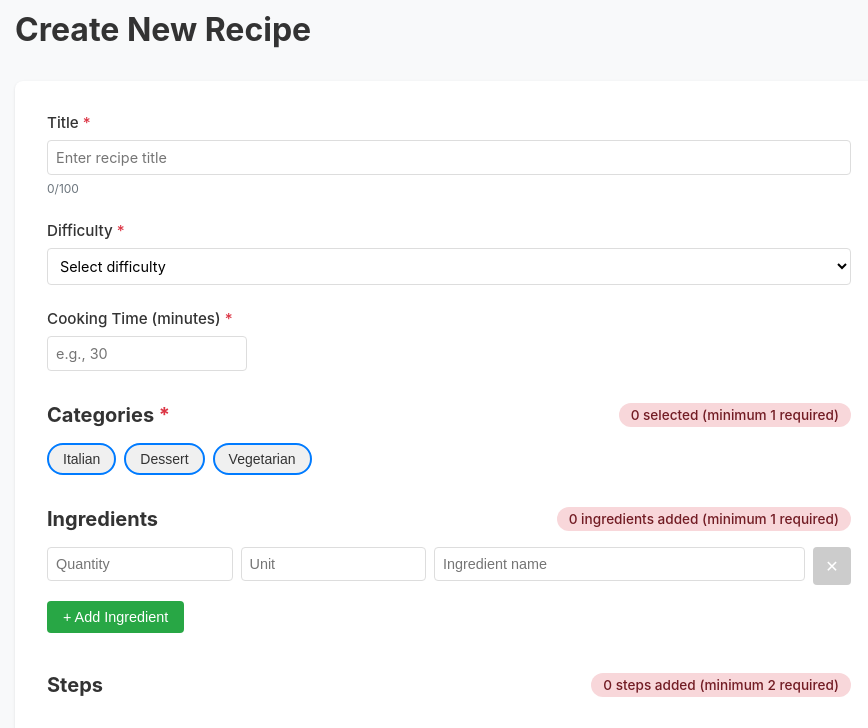
Test: CreateRecipeView › Ingredients Section › removes an ingredient row when delete button is clicked
Click the button "+ Add Ingredient": (116, 617) [47,601,184,633]
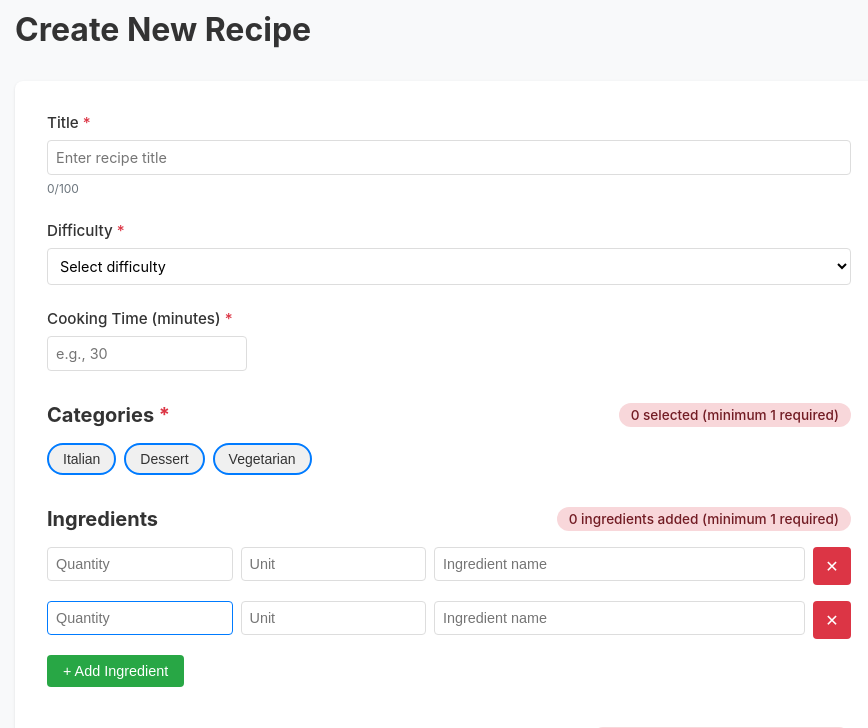
Expected: the number of buttons named "Remove ingredient" is 2
Click the button named "Remove ingredient": (832, 620) [813,601,851,639]
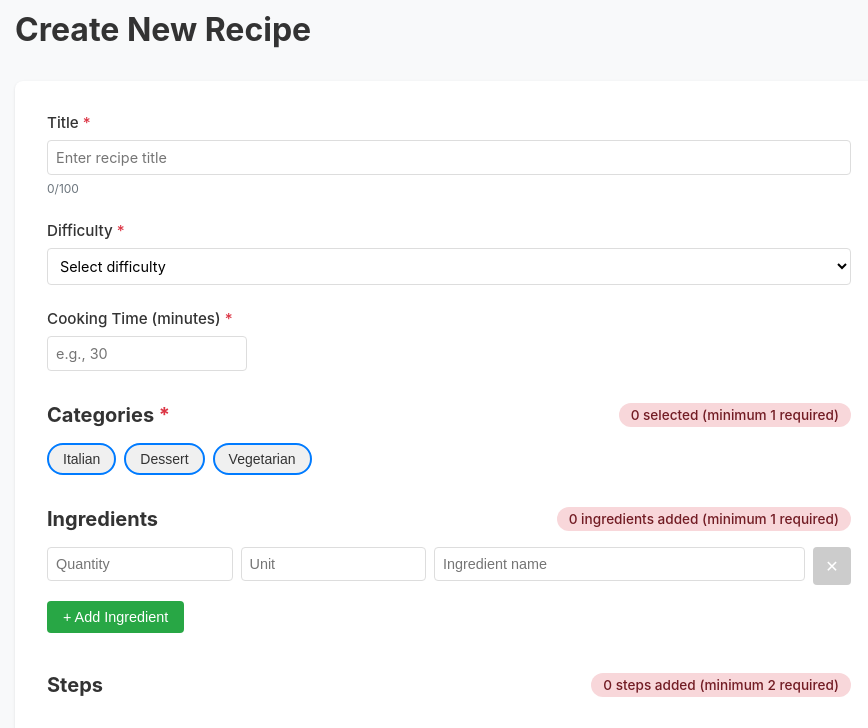
Expected: the number of fields with placeholder "Quantity" is 1, [47,547,232,581]
